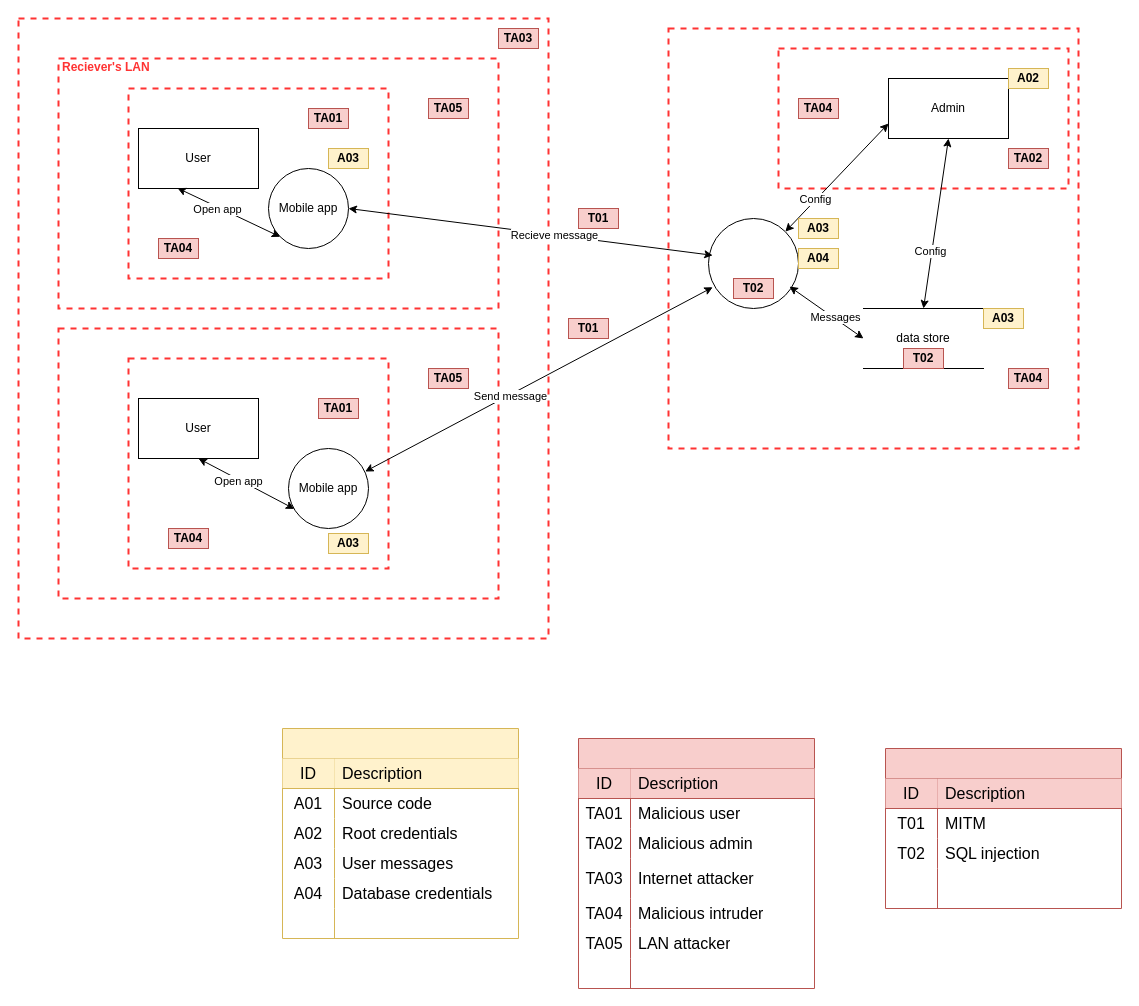
Some shapes in this 1139 by 1006 pixel diagram are drawn without their labels. The shapes that lost their labels are listed below. From the top down, each one's box as (x1, y1, x2, y2) in pixels, then its label:
(777, 47, 1069, 189): Admin machine
(127, 87, 389, 279): Reciever's smarthphone
(667, 27, 1079, 449): Company datacenter
(708, 218, 798, 308): Server
(17, 17, 549, 639): Internet
(127, 357, 389, 569): Sender's smartphone
(57, 327, 499, 599): Sender's LAN
(282, 728, 518, 938): Assets
(884, 748, 1122, 908): Threaths or attack vectors
(578, 738, 814, 988): Threath actors
